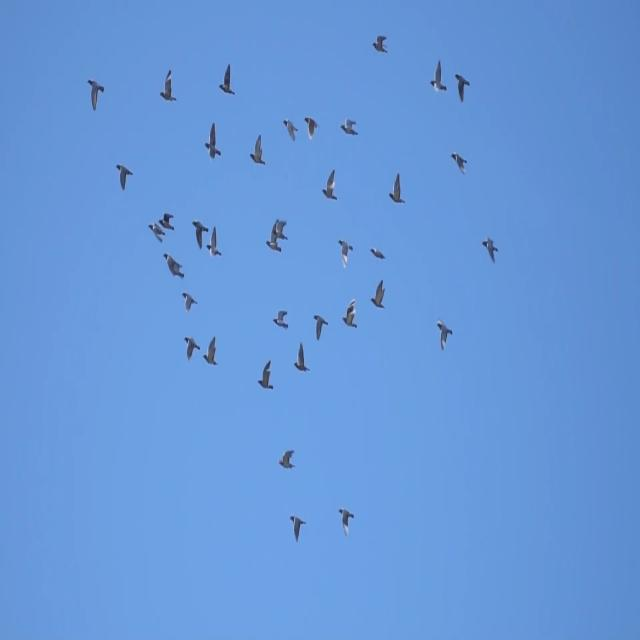bird: (203, 120, 222, 162), (158, 65, 178, 104), (162, 250, 185, 282), (86, 76, 105, 113), (428, 58, 448, 93), (265, 216, 283, 254), (190, 217, 210, 251), (435, 317, 453, 354), (217, 62, 236, 97), (320, 168, 339, 203), (387, 171, 406, 206), (336, 505, 356, 538), (248, 132, 266, 168), (287, 512, 307, 544), (369, 278, 387, 312), (292, 341, 311, 373), (450, 148, 470, 178), (114, 162, 134, 192), (205, 224, 222, 259), (202, 336, 220, 369), (481, 234, 499, 266), (341, 296, 359, 328), (256, 359, 274, 391), (280, 116, 300, 144), (336, 238, 354, 269), (183, 332, 201, 363), (454, 71, 470, 104), (303, 114, 321, 142), (312, 314, 329, 342), (146, 221, 166, 244), (180, 290, 199, 314), (271, 308, 290, 332), (339, 117, 359, 138), (277, 449, 297, 470), (157, 211, 175, 234), (371, 34, 389, 56), (272, 220, 289, 242), (368, 244, 386, 262)
